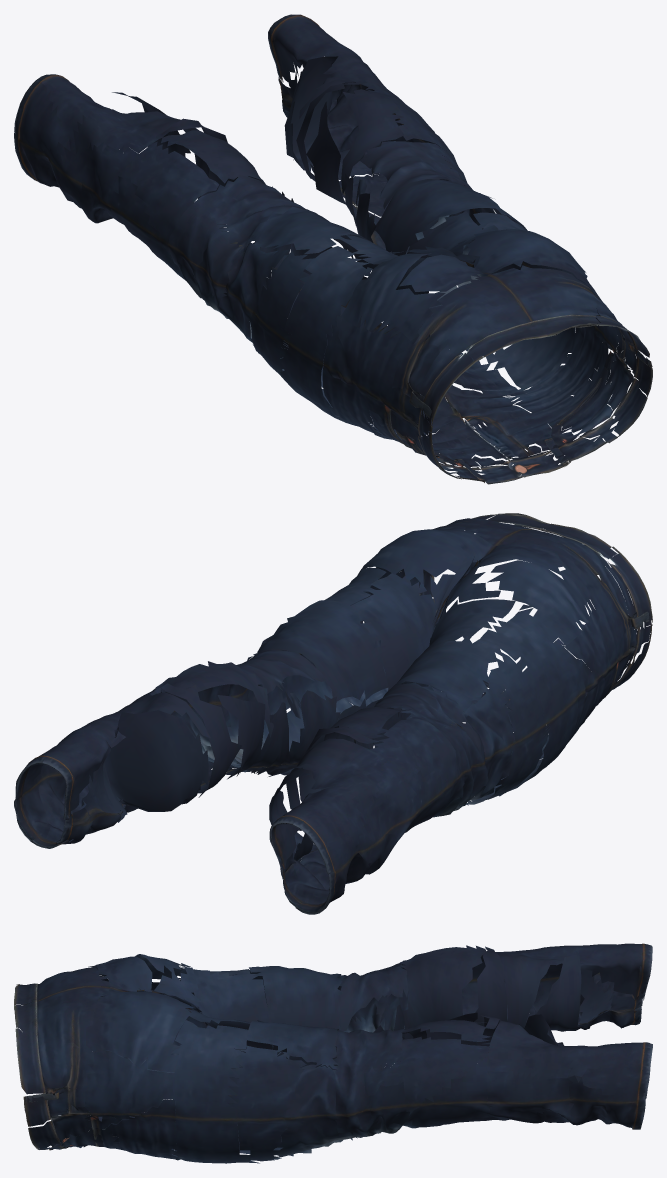
The model's file is adult-base-01.mobile.glb.
The picture shows the model from 3 angles, top to bottom: view 1: azimuth 30°, elevation 25°; view 2: azimuth 150°, elevation 25°; view 3: azimuth 270°, elevation 25°; orthographic projection. The views are drawn at different scales.
Visible parts, largest first — view 1: geometry_0; view 2: geometry_0; view 3: geometry_0.
Part boxes in pixels (x1,y1,x2,y2): geometry_0: (14,14,652,484); geometry_0: (14,513,652,914); geometry_0: (14,943,652,1163).
Size of the model in its own units: 0.00462 by 0.00269 by 0.0097.
Materials: 1 (1 with a texture image).
